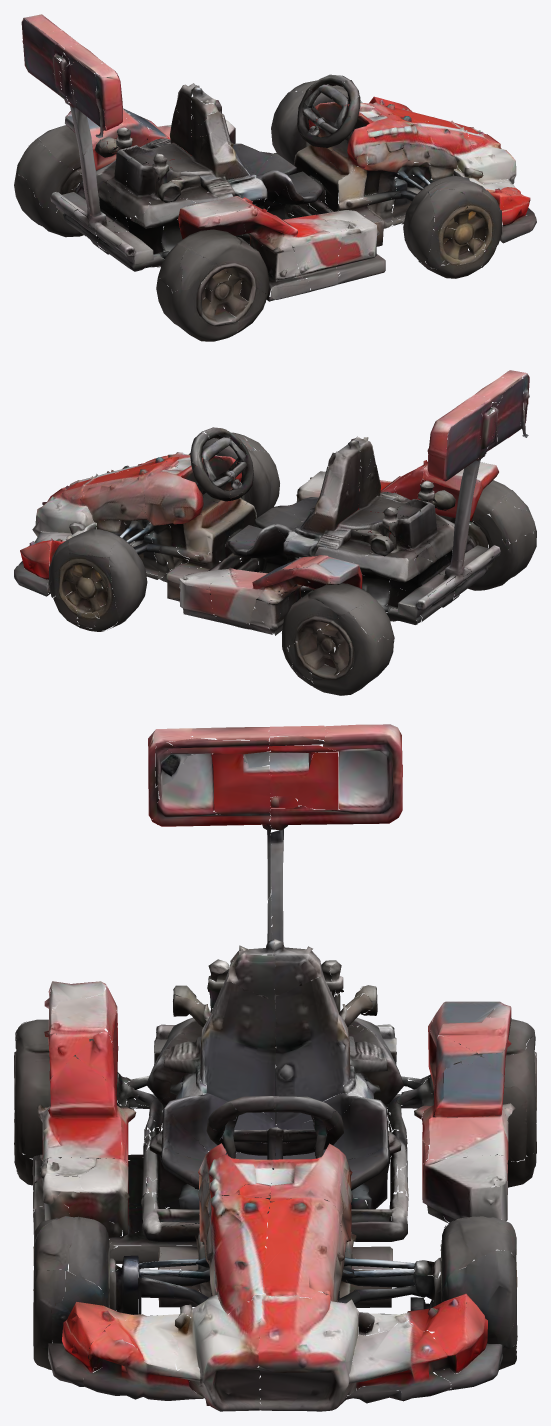
File: speedster.glb
The picture shows the model from 3 angles, top to bottom: view 1: azimuth 30°, elevation 25°; view 2: azimuth 150°, elevation 25°; view 3: azimuth 270°, elevation 25°; orthographic projection. The views are drawn at different scales.
Visible parts, largest first — view 1: tripo_node_794377c3-bc8e-471f-b760-5a3da3d3dc0b; view 2: tripo_node_794377c3-bc8e-471f-b760-5a3da3d3dc0b; view 3: tripo_node_794377c3-bc8e-471f-b760-5a3da3d3dc0b.
Boxes of the visible parts, bbox=[...] form: tripo_node_794377c3-bc8e-471f-b760-5a3da3d3dc0b: bbox=[14, 14, 536, 341]; tripo_node_794377c3-bc8e-471f-b760-5a3da3d3dc0b: bbox=[14, 370, 536, 695]; tripo_node_794377c3-bc8e-471f-b760-5a3da3d3dc0b: bbox=[14, 724, 536, 1411].
Size of the model in its own units: 1 by 0.559 by 0.667.
1 material, 1 textured.
